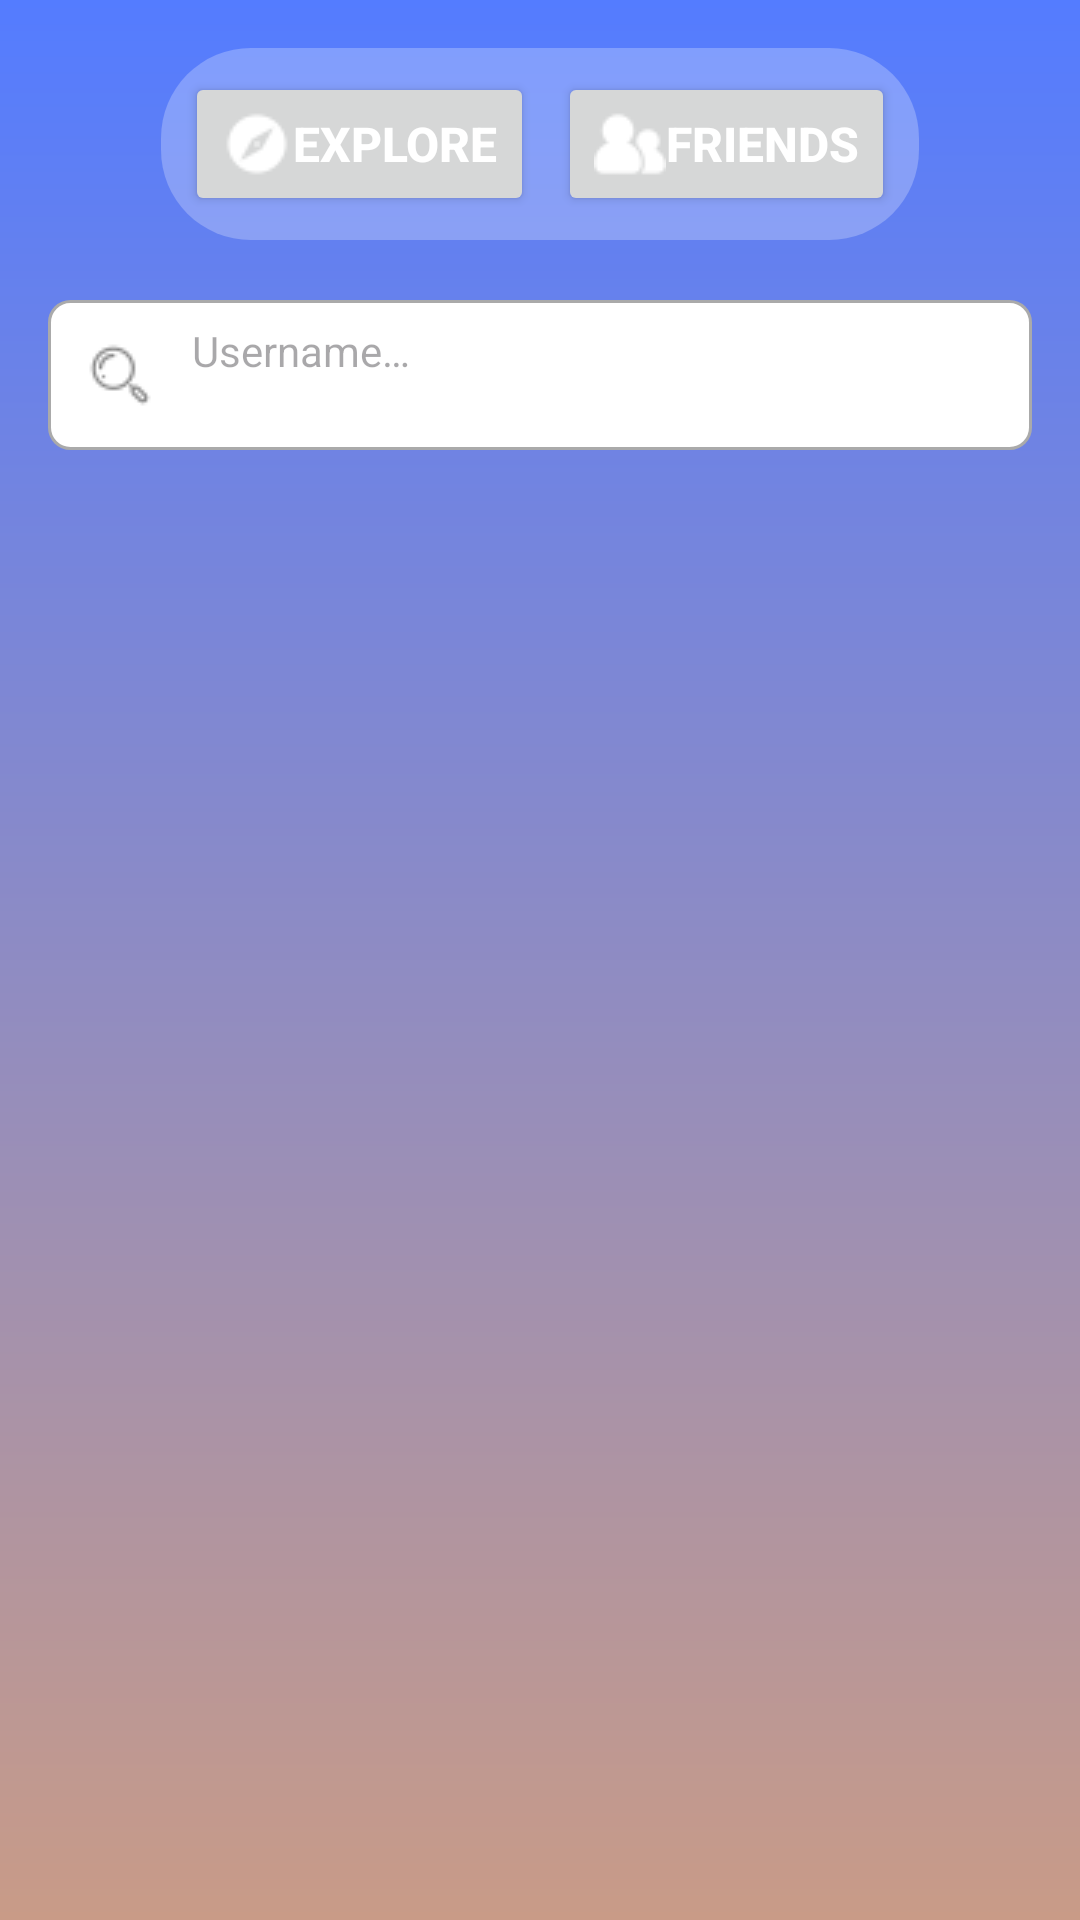

Point at icon controls on the screen. Image size 1080 x 1920, points as (x,y).
search: (120,375)
